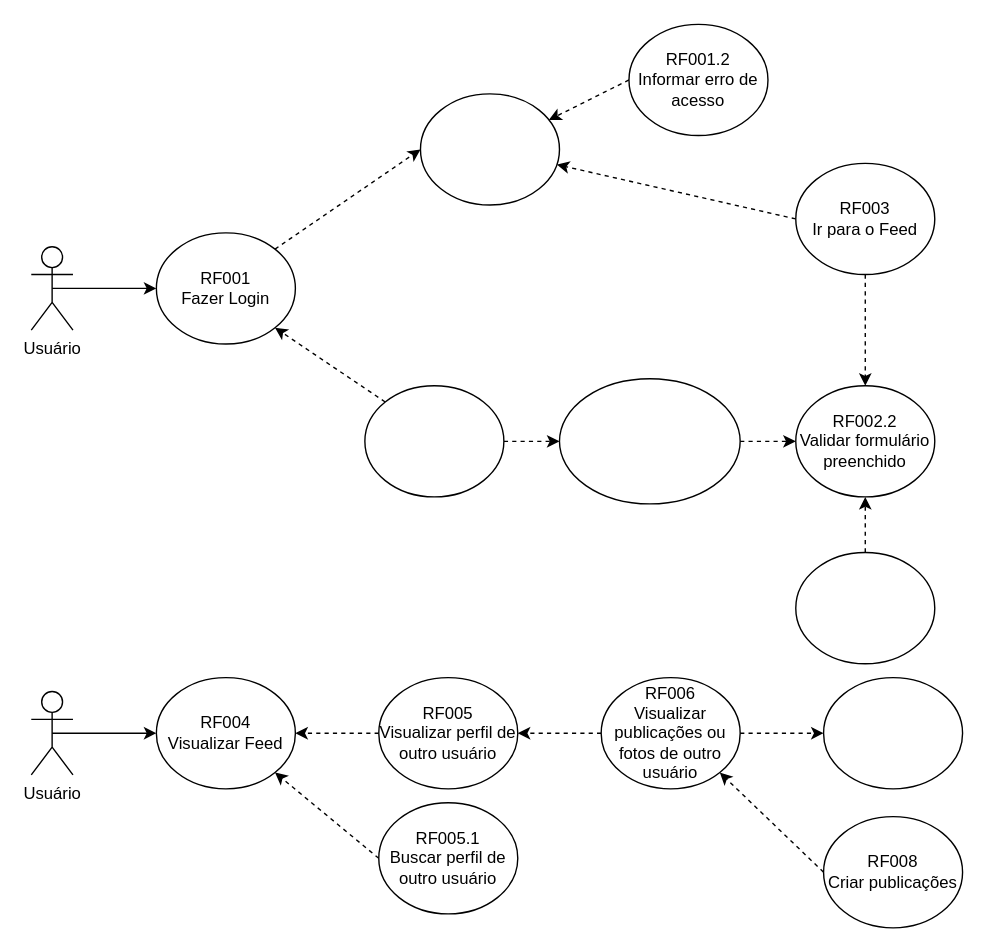
The diagram is 987 pixels wide and 952 high, and some of its shapes have lost their labels. The shapes that lost their labels are listed below. From the top down, each one's centre as x and y in pixels, then its label:
At (489,148): "RF001.1 Validar dados de acesso".
At (433,440): "RF002 Cadastrar no App".
At (649,440): "RF002.1 Informar dados obrigatórios (nome, email, senha, nascimento)".
At (864,607): "RF002.3 Informar erros de preenchimento".
At (892,732): "RF007 Comentar e curtir as publicações".
